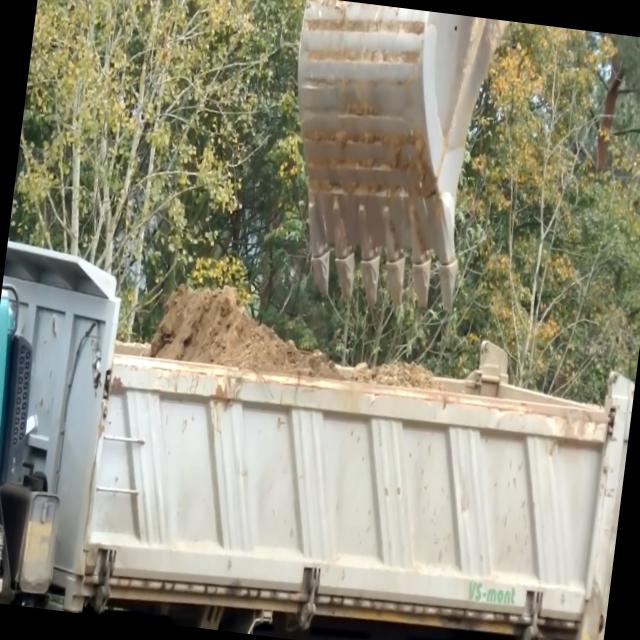Camion volquete: (0, 237, 640, 640)
Excavadora: (269, 0, 511, 320)
